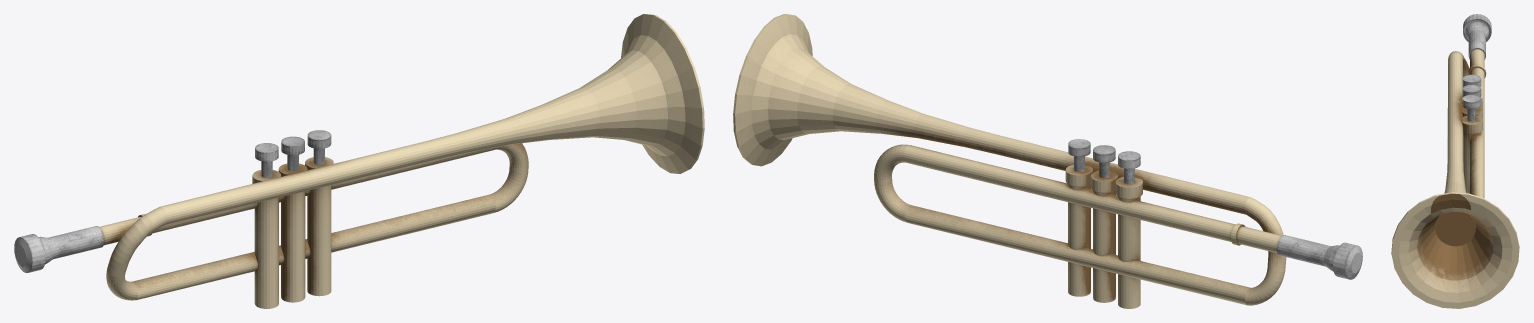
The model's file is trumpet.fbx.
3 renders of one model, left to right at view 1: azimuth 30°, elevation 25°; view 2: azimuth 150°, elevation 25°; view 3: azimuth 270°, elevation 25°, orthographic. The views are drawn at different scales.
Parts seen in each view (by area): view 1: Cylinder.001; view 2: Cylinder.001; view 3: Cylinder.001.
Part boxes in pixels (x1=…): Cylinder.001: x1=14, y1=14, x2=704, y2=308; Cylinder.001: x1=733, y1=14, x2=1362, y2=308; Cylinder.001: x1=1391, y1=14, x2=1519, y2=308.
Size of the model in its own units: 133 by 39.99 by 30.03.
